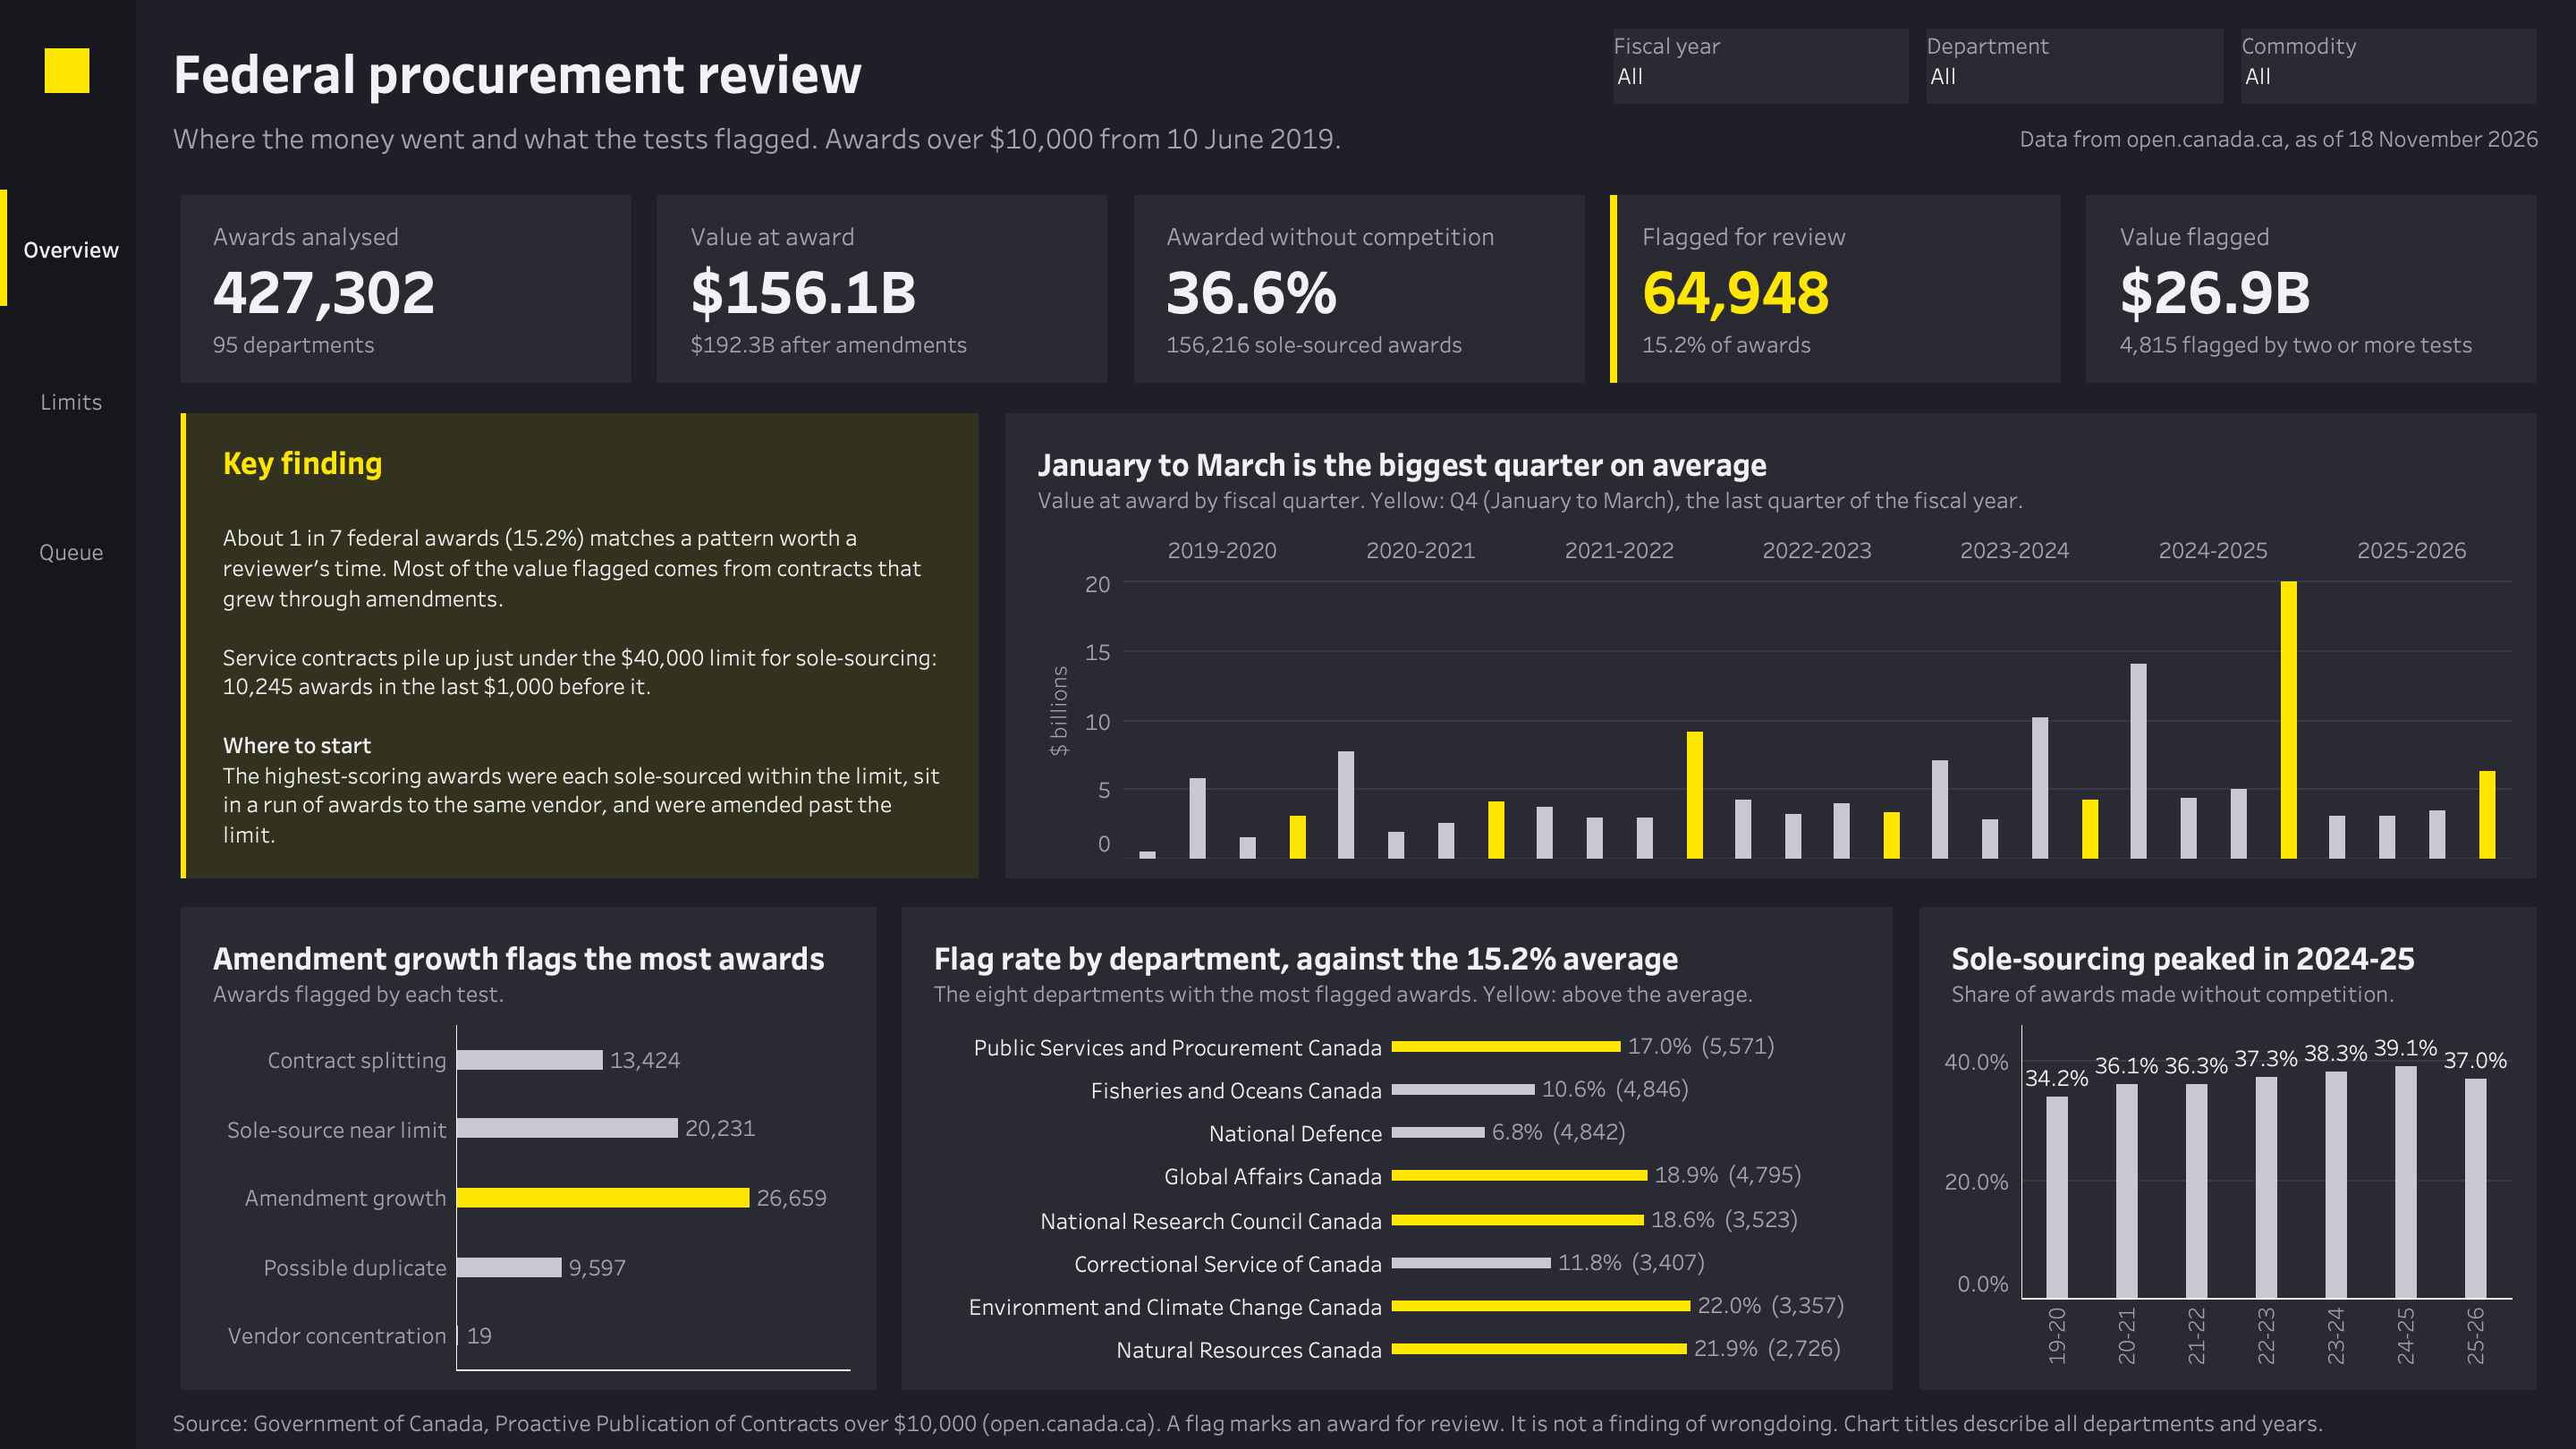

This screenshot's page, from the dashboard's own definition file:
{"tool":"tableau","page":{"name":"Overview","canvas":[1440,810],"ordinal":0},"visuals":[{"type":"blank","box":[0,0,75.6,810]},{"type":"filter","title":"Card: awards","param":"[awards].[none:fiscal_year:nk]","box":[901.8,16.2,165.6,41.4]},{"type":"filter","title":"Card: awards","param":"[awards].[none:department:nk]","box":[1077.3,16.2,165.6,41.4]},{"type":"filter","title":"Card: awards","param":"[awards].[none:commodity:nk]","box":[1252.8,16.2,165.6,41.4]},{"type":"text","box":[93.6,19.8,630,41.4]},{"type":"blank","box":[25.2,27,25.2,25.2]},{"type":"text","box":[93.6,64.8,882,25.2]},{"type":"text","box":[1062,64.8,360,25.2]},{"type":"blank","box":[0,106.2,3.6,64.8]},{"type":"blank","box":[100.8,108.9,252,105.3]},{"type":"blank","box":[367.2,108.9,252,105.3]},{"type":"blank","box":[633.6,108.9,252,105.3]},{"type":"blank","box":[900,108.9,252,105.3]},{"type":"blank","box":[900,108.9,3.6,105.3]},{"type":"blank","box":[1166.4,108.9,252,105.3]},{"type":"worksheet","title":"Card: awards","mark":"Text","box":[115.2,116.1,232.2,92.7]},{"type":"worksheet","title":"Card: value","mark":"Text","box":[381.6,116.1,232.2,92.7]},{"type":"worksheet","title":"Card: sole-sourced","mark":"Text","box":[648,116.1,232.2,92.7]},{"type":"worksheet","title":"Card: flagged","mark":"Text","box":[914.4,116.1,232.2,92.7]},{"type":"worksheet","title":"Card: value flagged","mark":"Text","box":[1180.8,116.1,232.2,92.7]},{"type":"text","box":[3.6,126,72,27]},{"type":"text","box":[3.6,210.6,72,27]},{"type":"blank","box":[100.8,231.3,446.4,259.2]},{"type":"blank","box":[100.8,231.3,3.6,259.2]},{"type":"blank","box":[561.6,231.3,856.8,259.2]},{"type":"worksheet","title":"Value by quarter","mark":"Bar","cols":["fiscal_year","fiscal_quarter"],"box":[576,242.1,828,237.6]},{"type":"text","box":[122.4,245.7,406.8,234]},{"type":"text","box":[3.6,295.2,72,27]},{"type":"blank","box":[100.8,506.7,388.8,270]},{"type":"blank","box":[504,506.7,554.4,270]},{"type":"blank","box":[1072.8,506.7,345.6,270]},{"type":"worksheet","title":"Flags by test","mark":"Bar","box":[115.2,517.5,360,248.4]},{"type":"worksheet","title":"Flag rate by department","mark":"Automatic","rows":["department"],"cols":["c_flag_rate"],"box":[518.4,517.5,525.6,248.4]},{"type":"worksheet","title":"Sole-sourced share by year","mark":"Bar","rows":["c_sole_share"],"cols":["c_year_short"],"box":[1087.2,517.5,316.8,248.4]},{"type":"text","box":[93.6,784.8,1260,21.6]}]}

Visuals, with their boxes in screenshot pixels (x1, y1, x2, y2), scaled from the page's 1440x810 canvas onto the 2576x1449 screenshot:
blank: <region>0, 0, 135, 1448</region>
"Card: awards" filter: <region>1614, 29, 1910, 103</region>
"Card: awards" filter: <region>1928, 29, 2224, 103</region>
"Card: awards" filter: <region>2241, 29, 2538, 103</region>
text: <region>167, 36, 1294, 109</region>
blank: <region>45, 48, 90, 93</region>
text: <region>167, 116, 1745, 161</region>
text: <region>1900, 116, 2544, 161</region>
blank: <region>0, 190, 6, 306</region>
blank: <region>181, 195, 631, 383</region>
blank: <region>657, 195, 1107, 383</region>
blank: <region>1133, 195, 1584, 383</region>
blank: <region>1610, 195, 2061, 383</region>
blank: <region>1610, 195, 1616, 383</region>
blank: <region>2087, 195, 2538, 383</region>
"Card: awards" worksheet (Text marks): <region>206, 208, 622, 374</region>
"Card: value" worksheet (Text marks): <region>682, 208, 1098, 374</region>
"Card: sole-sourced" worksheet (Text marks): <region>1159, 208, 1574, 374</region>
"Card: flagged" worksheet (Text marks): <region>1636, 208, 2051, 374</region>
"Card: value flagged" worksheet (Text marks): <region>2113, 208, 2528, 374</region>
text: <region>6, 225, 135, 274</region>
text: <region>6, 377, 135, 425</region>
blank: <region>181, 414, 979, 877</region>
blank: <region>181, 414, 187, 877</region>
blank: <region>1004, 414, 2538, 877</region>
"Value by quarter" worksheet (Bar marks): <region>1030, 433, 2512, 858</region>
text: <region>219, 439, 946, 858</region>
text: <region>6, 528, 135, 576</region>
blank: <region>181, 906, 876, 1389</region>
blank: <region>902, 906, 1894, 1389</region>
blank: <region>1919, 906, 2538, 1389</region>
"Flags by test" worksheet (Bar marks): <region>206, 926, 850, 1370</region>
"Flag rate by department" worksheet: <region>928, 926, 1868, 1370</region>
"Sole-sourced share by year" worksheet (Bar marks): <region>1945, 926, 2512, 1370</region>
text: <region>167, 1404, 2421, 1443</region>
